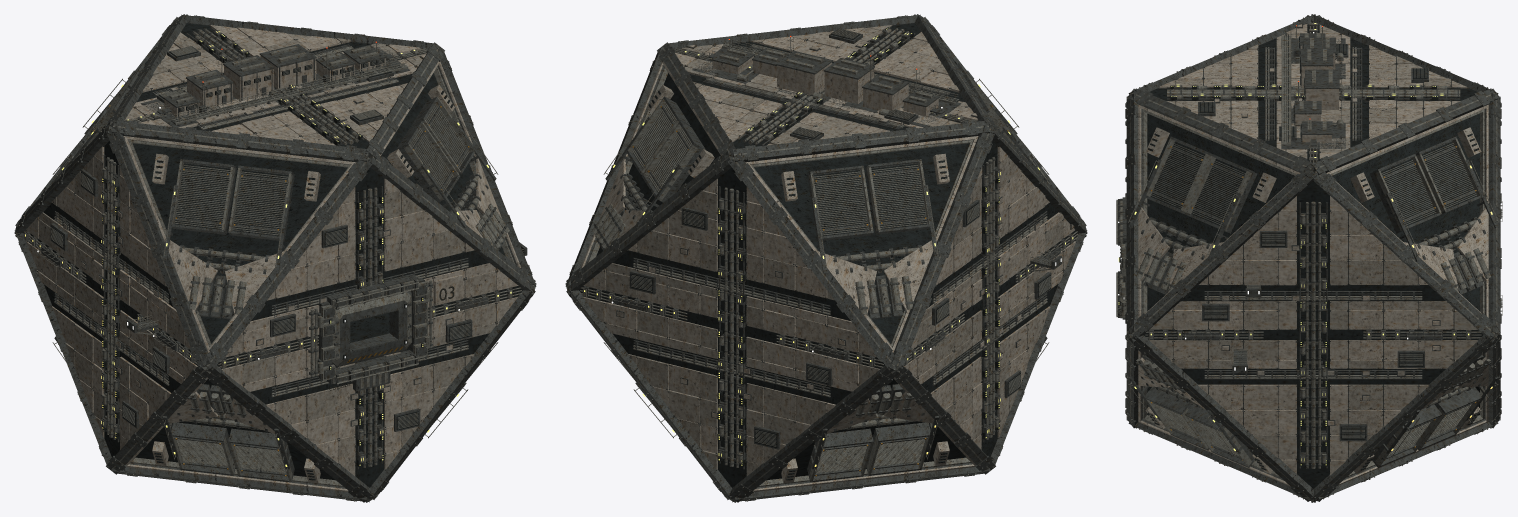
The model's file is coriolis-industrial-flight.glb.
The picture shows the model from 3 angles, left to right: view 1: azimuth 30°, elevation 25°; view 2: azimuth 150°, elevation 25°; view 3: azimuth 270°, elevation 25°; orthographic projection. The views are drawn at different scales.
Parts seen in each view (by area): view 1: structural-graphite, worn-alloy, recess-and-radiator, ceramic-steel-2, ceramic-steel-1, ceramic-steel-3, ceramic-steel-0, habitation-amber; view 2: structural-graphite, worn-alloy, recess-and-radiator, ceramic-steel-2, ceramic-steel-1, ceramic-steel-0, ceramic-steel-3, habitation-amber; view 3: structural-graphite, recess-and-radiator, worn-alloy, ceramic-steel-2, ceramic-steel-1, ceramic-steel-3, ceramic-steel-0, habitation-amber.
Part boxes in pixels (left/top/right/bottom): structural-graphite: left=14, top=14, right=536, bottom=502; worn-alloy: left=16, top=15, right=534, bottom=501; recess-and-radiator: left=24, top=23, right=522, bottom=487; ceramic-steel-2: left=26, top=25, right=521, bottom=491; ceramic-steel-1: left=26, top=33, right=499, bottom=483; ceramic-steel-3: left=36, top=27, right=518, bottom=462; ceramic-steel-0: left=39, top=38, right=496, bottom=447; habitation-amber: left=25, top=31, right=511, bottom=466; structural-graphite: left=565, top=14, right=1087, bottom=502; worn-alloy: left=567, top=15, right=1085, bottom=501; recess-and-radiator: left=579, top=23, right=1077, bottom=487; ceramic-steel-2: left=580, top=31, right=1075, bottom=491; ceramic-steel-1: left=583, top=25, right=1045, bottom=483; ceramic-steel-0: left=602, top=45, right=1074, bottom=475; ceramic-steel-3: left=605, top=27, right=1063, bottom=453; habitation-amber: left=584, top=28, right=1073, bottom=466; structural-graphite: left=1118, top=14, right=1501, bottom=502; recess-and-radiator: left=1119, top=24, right=1482, bottom=488; worn-alloy: left=1116, top=17, right=1502, bottom=500; ceramic-steel-2: left=1138, top=34, right=1488, bottom=485; ceramic-steel-1: left=1145, top=25, right=1481, bottom=475; ceramic-steel-3: left=1178, top=24, right=1453, bottom=434; ceramic-steel-0: left=1149, top=51, right=1477, bottom=457; habitation-amber: left=1118, top=23, right=1492, bottom=465.
Size of the model in its own units: 995 by 948 by 871.
12 materials, 9 textured.
